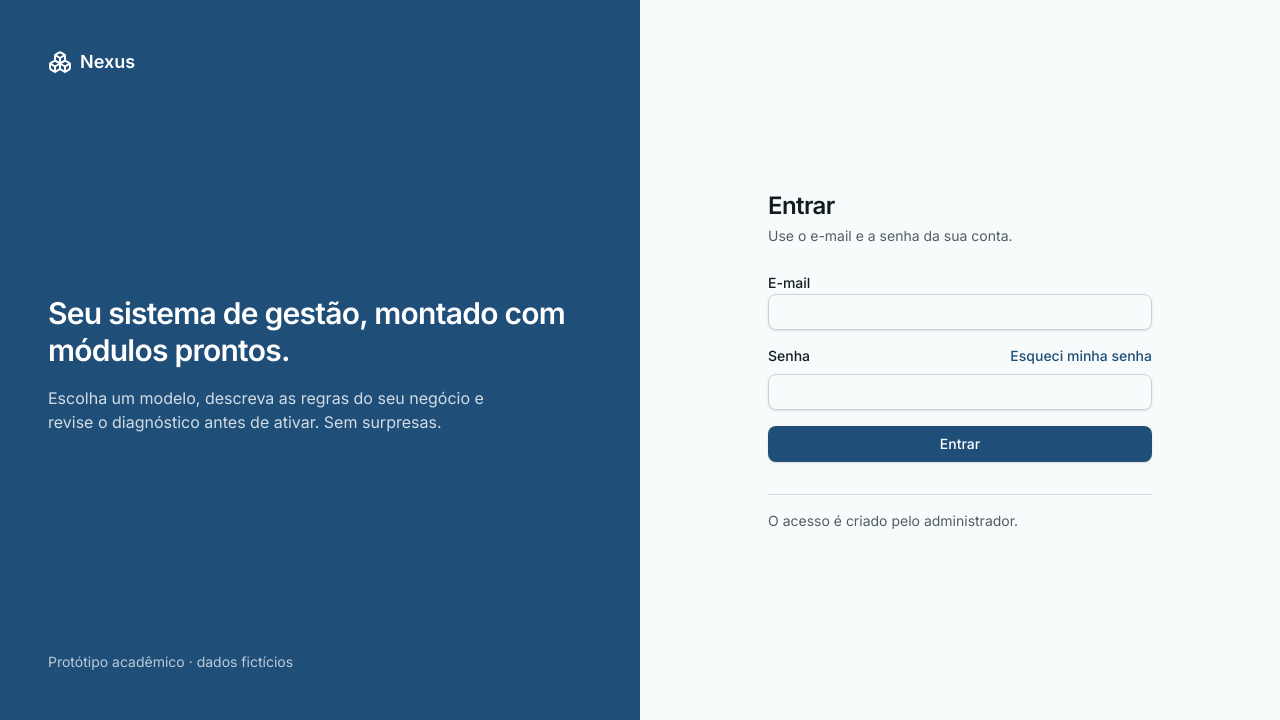
Entrar › mostra a mensagem certa para email_nao_confirmado
This screenshot has width=1280, height=720.
Type "pessoa@exemplo.com" into the field labelled "E-mail".
click(960, 312); type("pessoa@exemplo.com")  # box [768,294,1152,330]
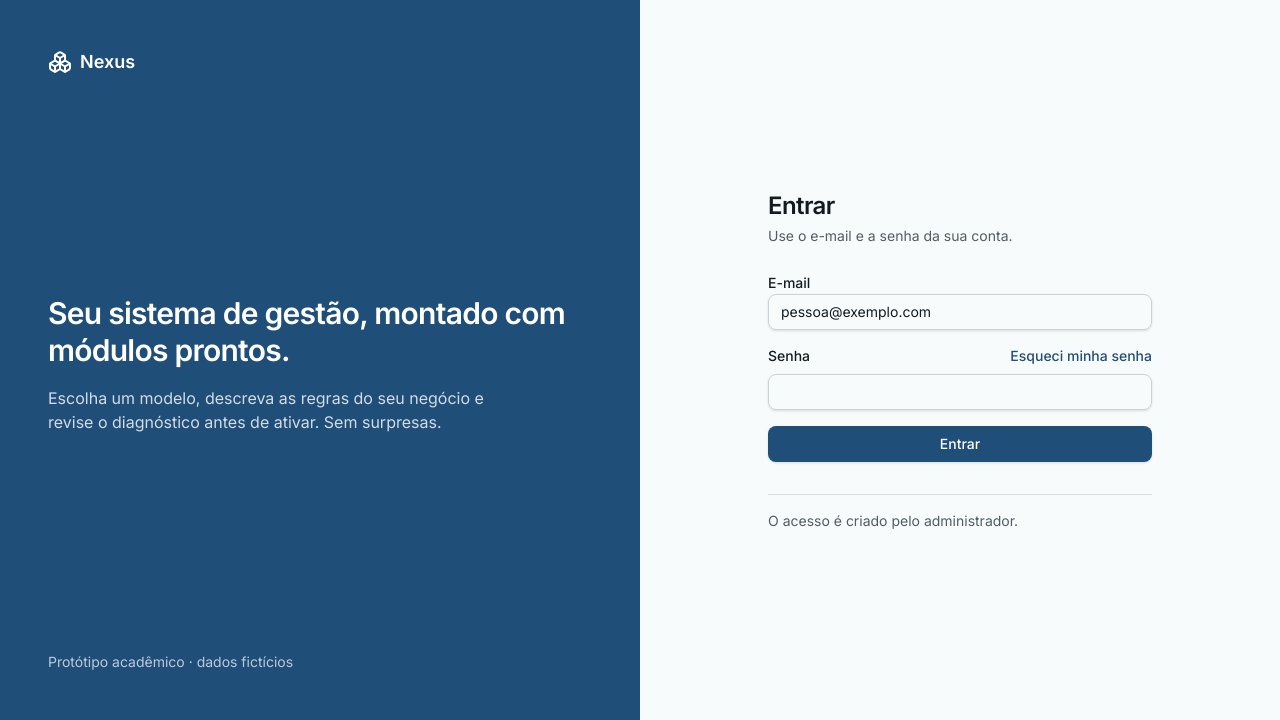
Type "senha-ficticia" into the password field labelled "Senha".
click(960, 392); type("senha-ficticia")  # box [768,374,1152,410]
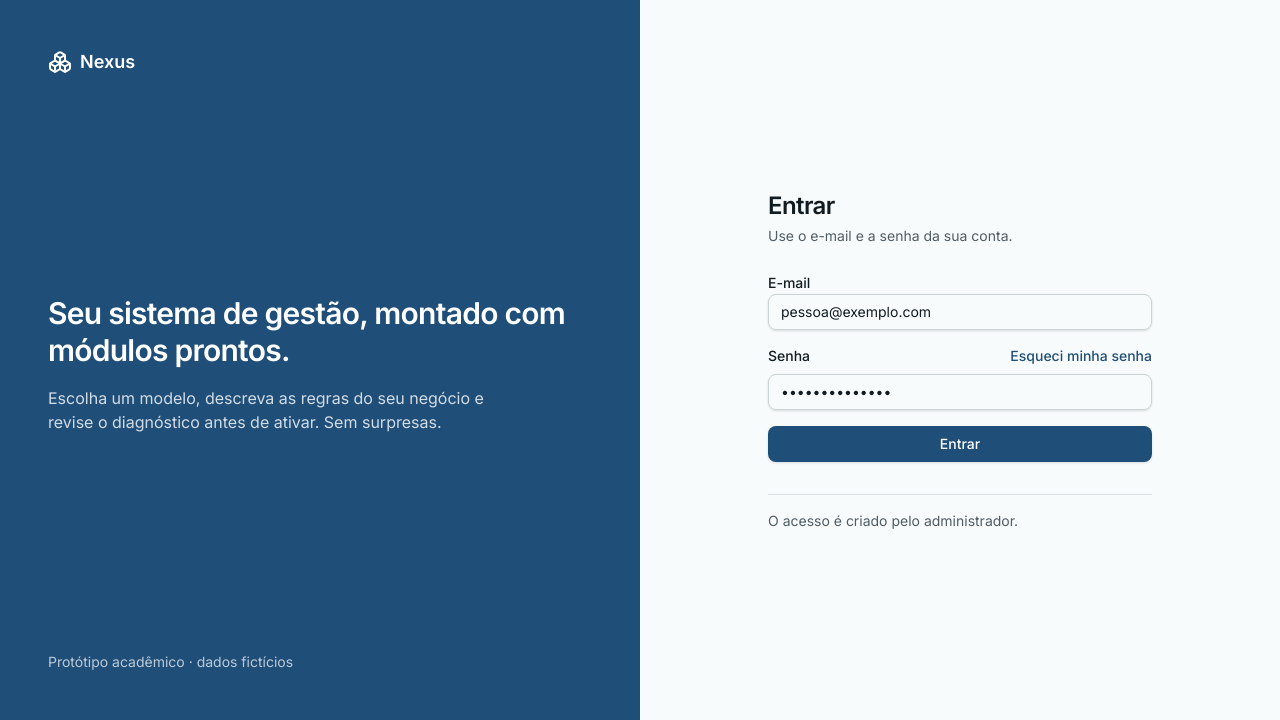
Click the button "Entrar".
click(960, 444)  # box [768,426,1152,462]
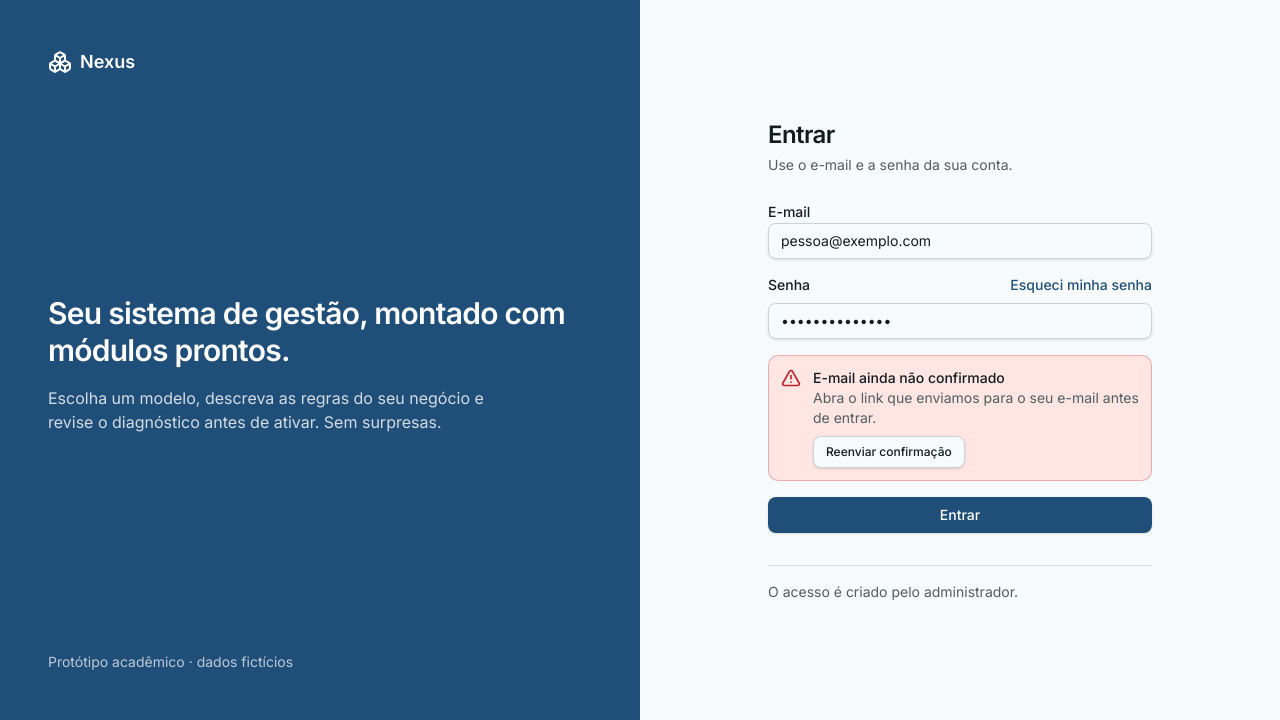
Now the text "E-mail ainda não confirmado" is shown, box [813,368,1005,386]
